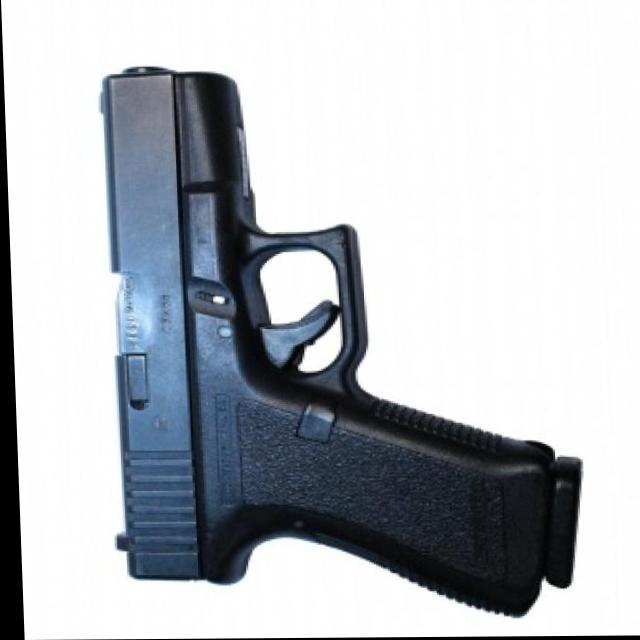handgun: (70, 55, 582, 629)
